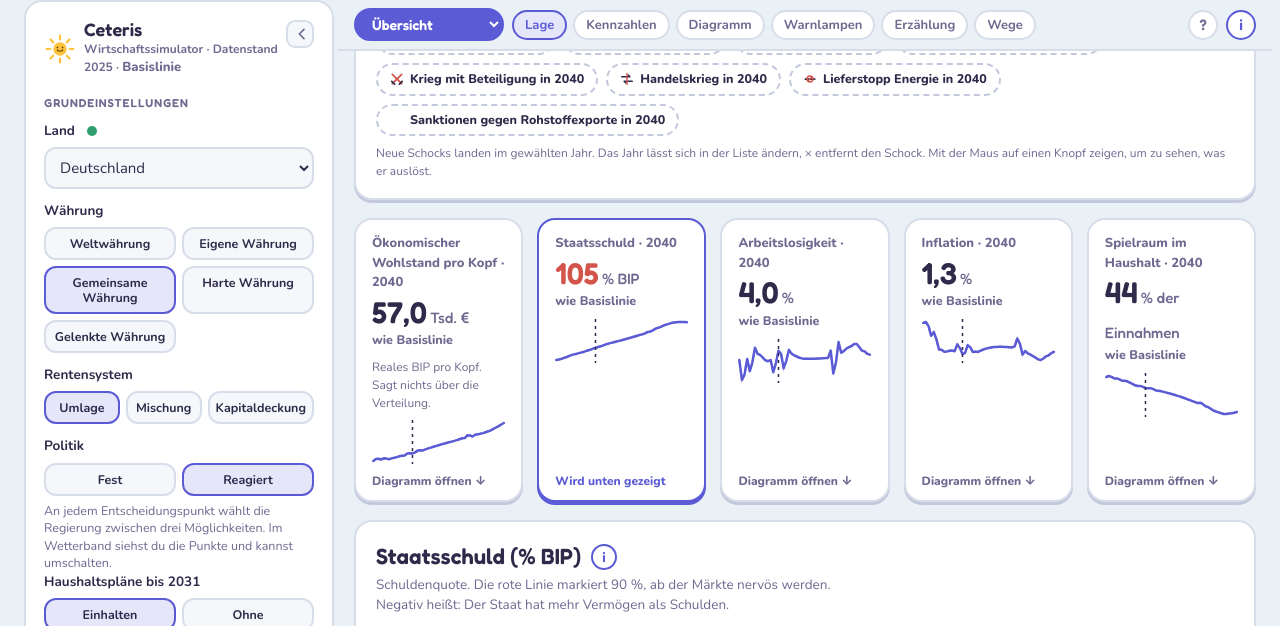
Test: Kennzahlen und Diagramm › Klick auf eine Kachel wechselt das Diagramm
(page scrolled)
Click the button "Arbeitslosigkeit ·" at (805, 360), box [720, 218, 890, 502]
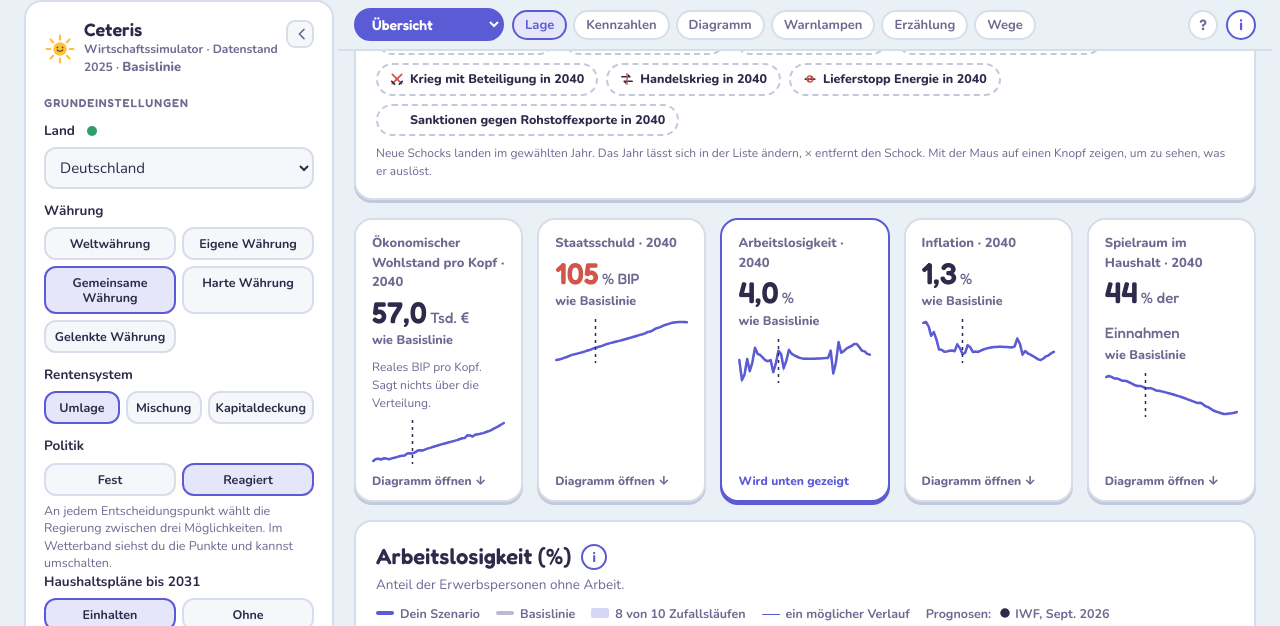
Expected: the heading "Arbeitslosigkeit (%)" is shown, [376, 540, 571, 573]
